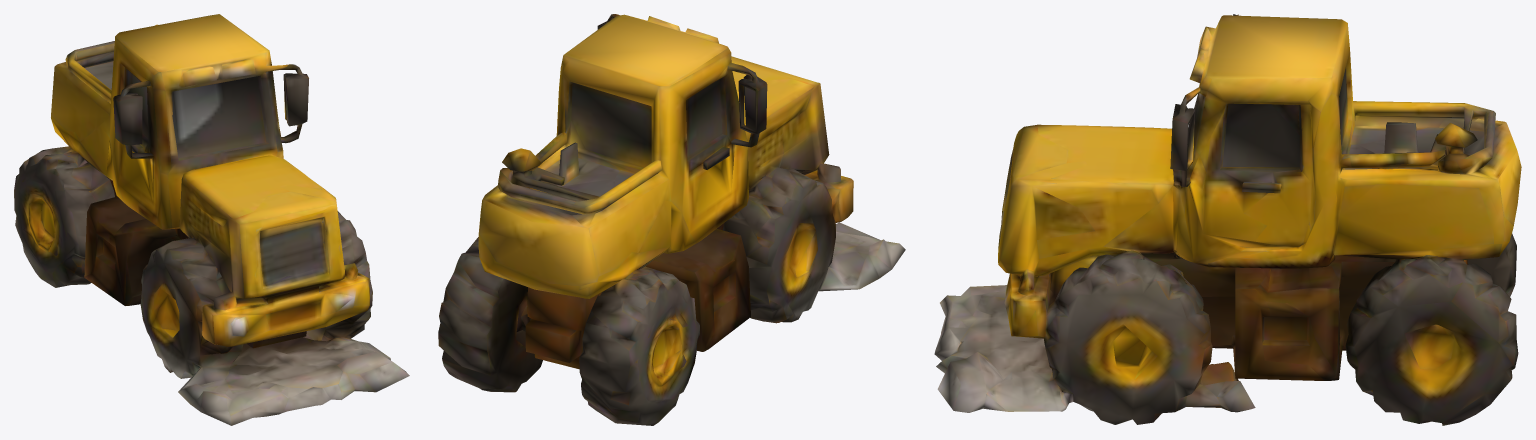
File: bulldozer_grader_github.glb
3 renders of one model, left to right at view 1: azimuth 30°, elevation 25°; view 2: azimuth 150°, elevation 25°; view 3: azimuth 270°, elevation 25°, orthographic. The views are drawn at different scales.
Visible parts, largest first — view 1: bulldozer_grader_github; view 2: bulldozer_grader_github; view 3: bulldozer_grader_github.
Boxes of the visible parts, bbox=[...] form: bulldozer_grader_github: bbox=[14, 14, 409, 425]; bulldozer_grader_github: bbox=[438, 14, 905, 425]; bulldozer_grader_github: bbox=[934, 14, 1521, 425].
Size of the model in its own units: 0.1639 by 0.2122 by 0.34.
1 material, 1 textured.
